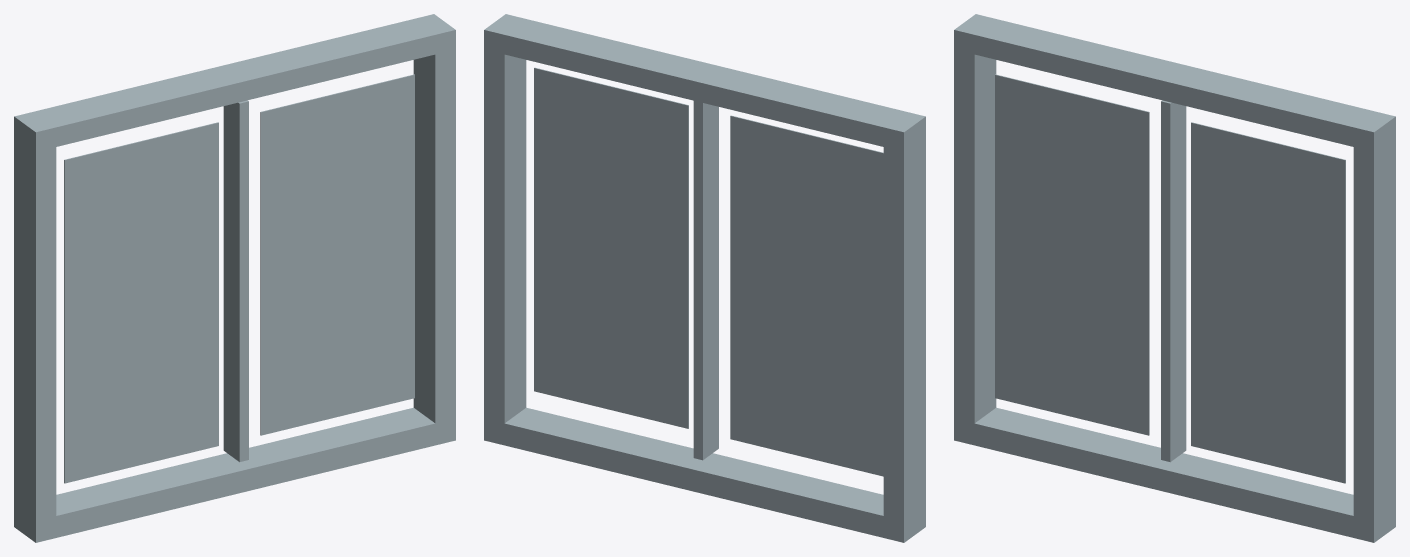
The model's file is PROJECT_Z_Window_OPTIONAL_Collision_Helpers.glb.
The picture shows the model from 3 angles, left to right: view 1: azimuth 30°, elevation 25°; view 2: azimuth 150°, elevation 25°; view 3: azimuth 330°, elevation 25°; orthographic projection.
Visible parts, largest first — view 1: UCX_GLASS_Right, UCX_GLASS_Left, UCX_FRAME_Jamb_L, UCX_FRAME_Jamb_R, UCX_FRAME_Bottom, UCX_FRAME_Head, UCX_FRAME_Mullion; view 2: UCX_GLASS_Right, UCX_GLASS_Left, UCX_FRAME_Jamb_L, UCX_FRAME_Jamb_R, UCX_FRAME_Bottom, UCX_FRAME_Head, UCX_FRAME_Mullion; view 3: UCX_GLASS_Left, UCX_GLASS_Right, UCX_FRAME_Jamb_R, UCX_FRAME_Jamb_L, UCX_FRAME_Bottom, UCX_FRAME_Head, UCX_FRAME_Mullion.
Part boxes in pixels (x1,y1,x2,y2): UCX_GLASS_Right: (260,74,414,435); UCX_GLASS_Left: (64,122,218,483); UCX_FRAME_Jamb_L: (14,111,56,542); UCX_FRAME_Jamb_R: (413,14,455,445); UCX_FRAME_Bottom: (56,407,435,537); UCX_FRAME_Head: (35,19,435,146); UCX_FRAME_Mullion: (223,100,248,462); UCX_GLASS_Right: (534,67,688,428); UCX_GLASS_Left: (730,115,883,476); UCX_FRAME_Jamb_L: (883,111,925,542); UCX_FRAME_Jamb_R: (484,14,526,445); UCX_FRAME_Bottom: (504,407,883,537); UCX_FRAME_Head: (504,19,904,146); UCX_FRAME_Mullion: (693,101,718,460); UCX_GLASS_Left: (995,74,1149,435); UCX_GLASS_Right: (1191,122,1345,483); UCX_FRAME_Jamb_R: (1353,111,1395,542); UCX_FRAME_Jamb_L: (954,14,996,445); UCX_FRAME_Bottom: (974,407,1353,537); UCX_FRAME_Head: (974,19,1374,146); UCX_FRAME_Mullion: (1161,100,1186,462).
Bounding box in the file's own units: 1.52 × 1.42 × 0.136.
